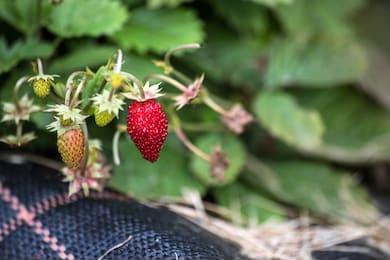Fresa: (120, 85, 175, 166)
